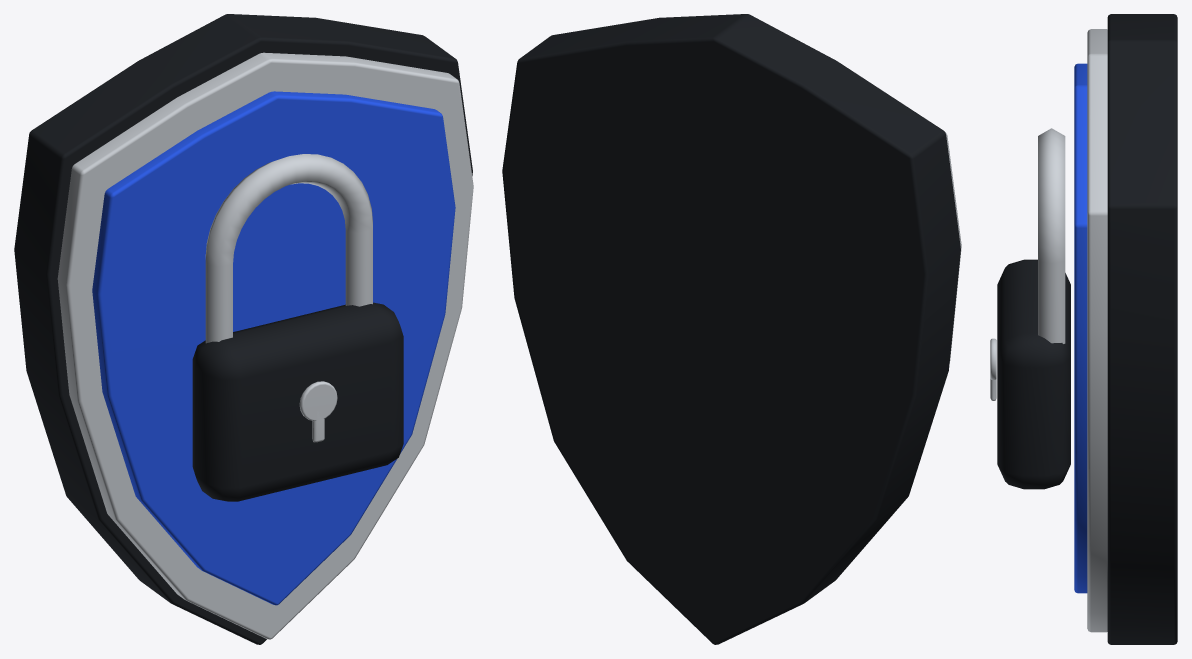
The model's file is privacy.glb.
3 views of the same model, side by side, from view 1: azimuth 30°, elevation 25°; view 2: azimuth 150°, elevation 25°; view 3: azimuth 270°, elevation 25° (orthographic).
Visible parts, largest first — view 1: SM_ShieldFace, SM_ModelGeometry_LiftGraphite, SM_ModelGeometry_LiftSilver, SM_LockShackle; view 2: SM_ModelGeometry_LiftGraphite; view 3: SM_ModelGeometry_LiftGraphite, SM_ModelGeometry_LiftSilver, SM_ShieldFace, SM_LockShackle.
Part boxes in pixels (box(x1,y1,x2,y2)): SM_ShieldFace: box(92, 91, 455, 605); SM_ModelGeometry_LiftGraphite: box(14, 14, 472, 644); SM_ModelGeometry_LiftSilver: box(57, 52, 473, 639); SM_LockShackle: box(205, 154, 372, 343); SM_ModelGeometry_LiftGraphite: box(502, 14, 960, 644); SM_ModelGeometry_LiftGraphite: box(997, 14, 1177, 644); SM_ModelGeometry_LiftSilver: box(990, 29, 1107, 632); SM_ShieldFace: box(1074, 63, 1087, 593); SM_LockShackle: box(1038, 128, 1065, 343).
Bounding box in the file's own units: 1.47 × 2 × 0.5616.
